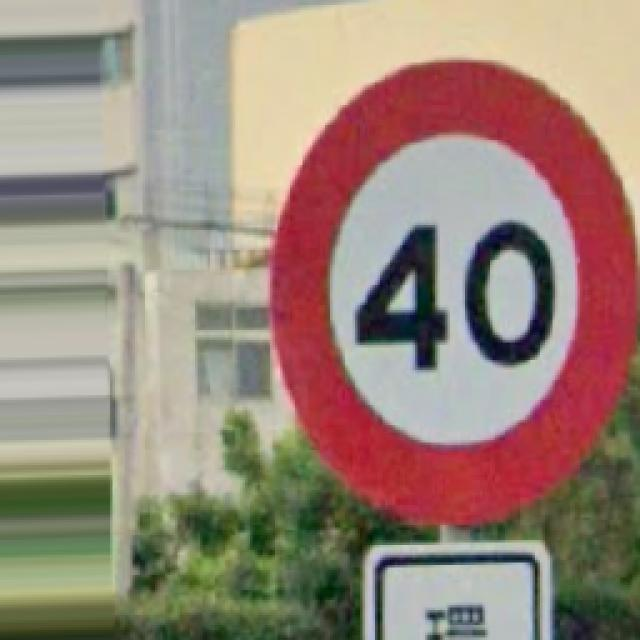Speed Limit -40-: (270, 62, 635, 522)
